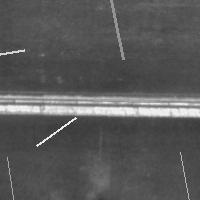scratches: (1, 85, 200, 121), (32, 112, 81, 150), (102, 0, 128, 64), (175, 147, 198, 200), (89, 94, 159, 106), (2, 152, 19, 200), (0, 45, 29, 61)
